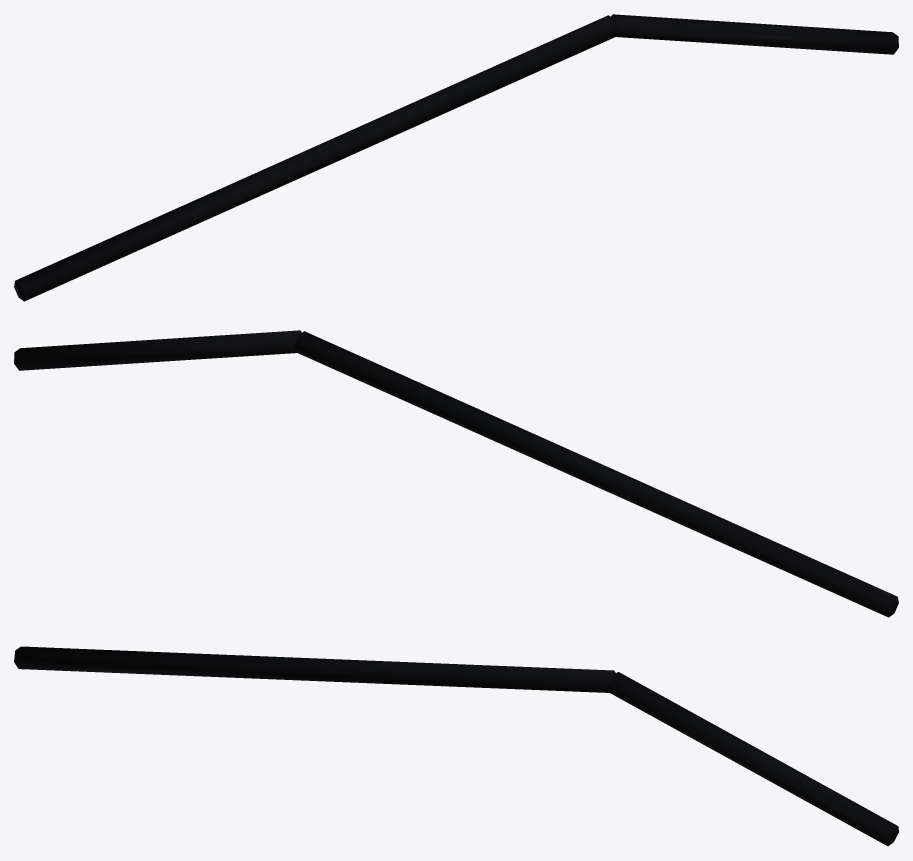
Rendered from CABLE_SET_001.glb.
The picture shows the model from 3 angles, top to bottom: view 1: azimuth 30°, elevation 25°; view 2: azimuth 150°, elevation 25°; view 3: azimuth 330°, elevation 25°; orthographic projection.
Visible parts, largest first — view 1: cable_000, cable_001; view 2: cable_000, cable_001; view 3: cable_000, cable_001.
Boxes of the visible parts, bbox=[...] form: cable_000: bbox=[14, 15, 618, 301]; cable_001: bbox=[611, 14, 898, 54]; cable_000: bbox=[294, 331, 898, 617]; cable_001: bbox=[14, 330, 301, 370]; cable_000: bbox=[14, 646, 615, 692]; cable_001: bbox=[607, 672, 898, 846].
Bounding box in the file's own units: 0.5325 × 0.0802 × 0.012.
Materials: 1 (1 with a texture image).
